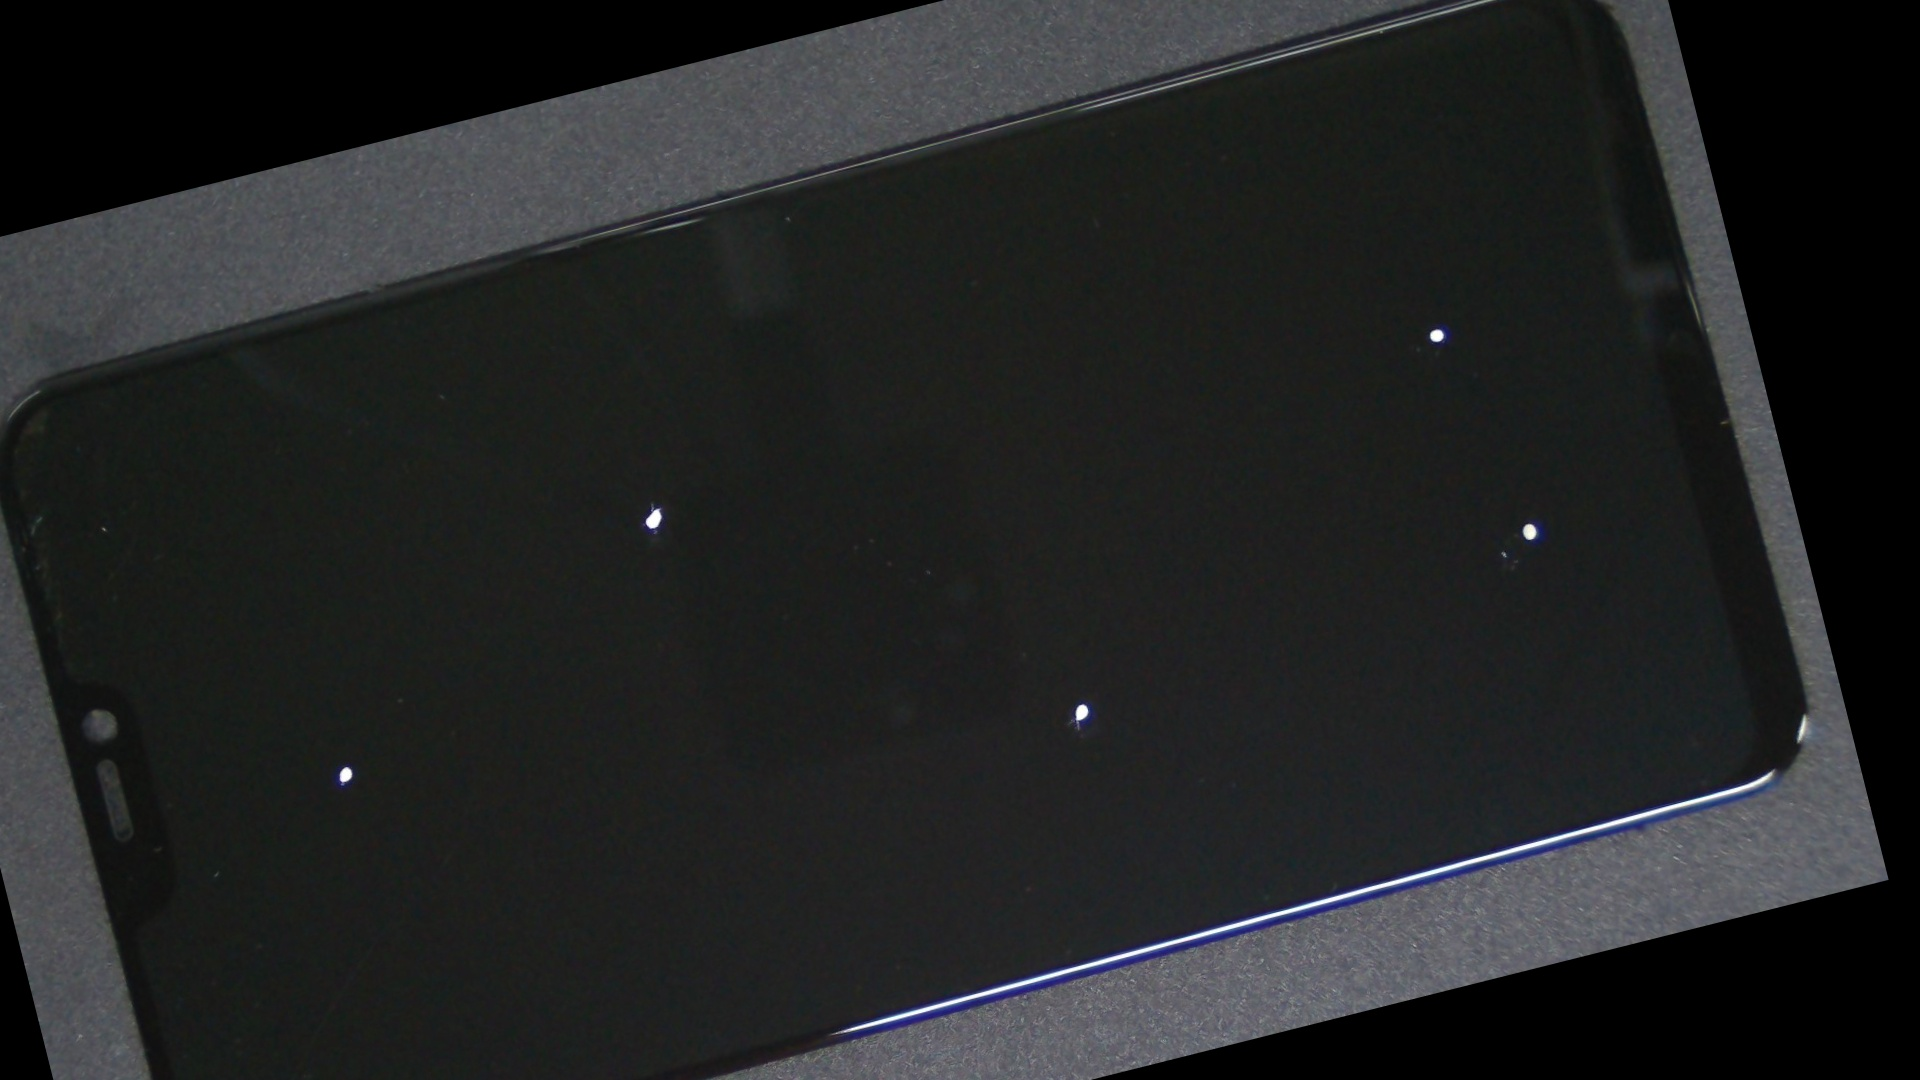oil: (467, 223, 1697, 1080), (690, 142, 1862, 1027), (645, 41, 1785, 725), (253, 215, 1054, 800), (99, 430, 595, 1080)
